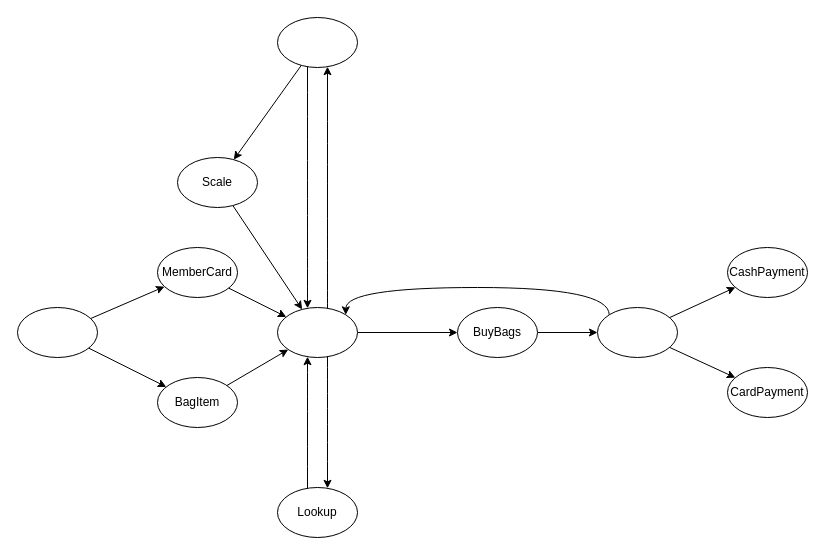
Some shapes in this 825 by 555 pixel diagram are drawn without their labels. The box of each missing label's shape, as (x1, y1, x2, y2) in pixels:
Buying: (276, 306, 358, 358)
Keypad: (276, 16, 358, 68)
Purchasing: (596, 306, 678, 358)
Start: (16, 306, 98, 358)
